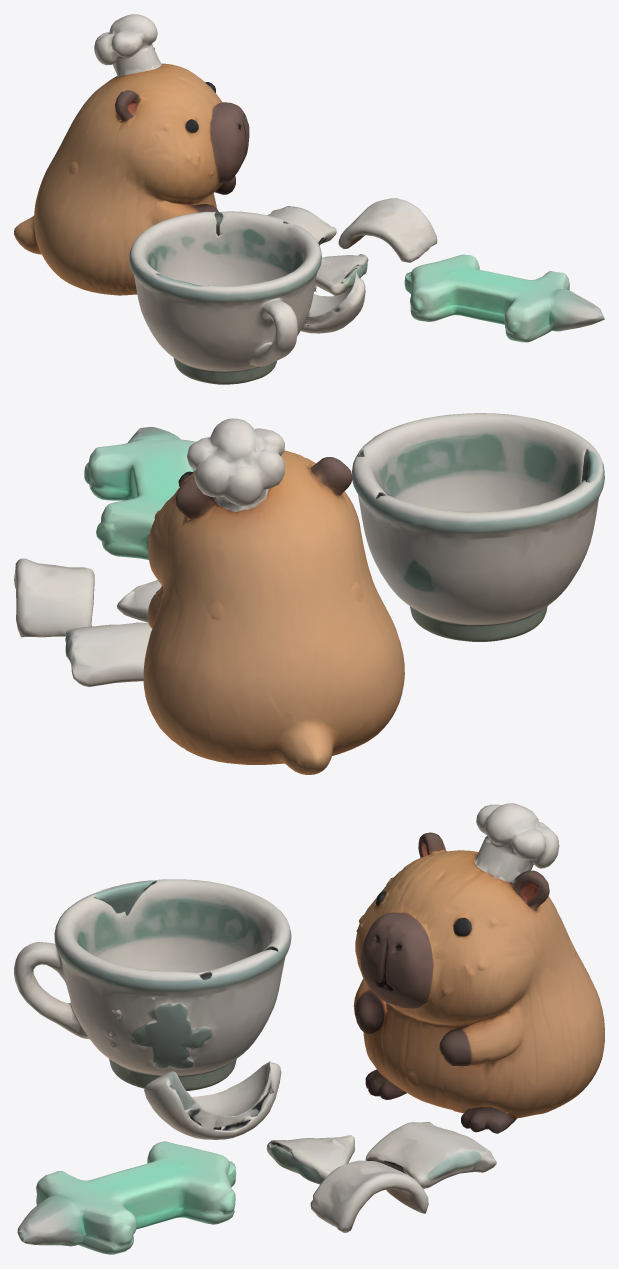
File: discovery-recurve.glb
3 renders of one model, top to bottom at view 1: azimuth 30°, elevation 25°; view 2: azimuth 150°, elevation 25°; view 3: azimuth 270°, elevation 25°, orthographic. The views are drawn at different scales.
Visible parts, largest first — view 1: tripo_node_7e36d406-db77-4192-af7d-8e0babfb6a97; view 2: tripo_node_7e36d406-db77-4192-af7d-8e0babfb6a97; view 3: tripo_node_7e36d406-db77-4192-af7d-8e0babfb6a97.
Boxes of the visible parts, x1,y1,x2,y2 form: tripo_node_7e36d406-db77-4192-af7d-8e0babfb6a97: (14,14,604,384); tripo_node_7e36d406-db77-4192-af7d-8e0babfb6a97: (14,413,604,774); tripo_node_7e36d406-db77-4192-af7d-8e0babfb6a97: (14,803,604,1254).
Bounding box in the file's own units: 0.9644 × 0.5433 × 1.
1 material, 1 textured.
